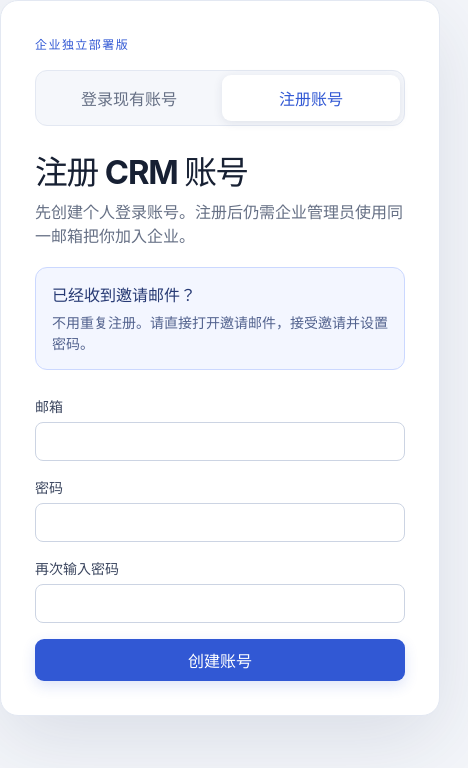
Test case: LoginPage › submits registration and explains email verification plus enterprise invitation
In the field labelled "邮箱": [220, 442] box [35,422,405,461], type "sales@example.com"
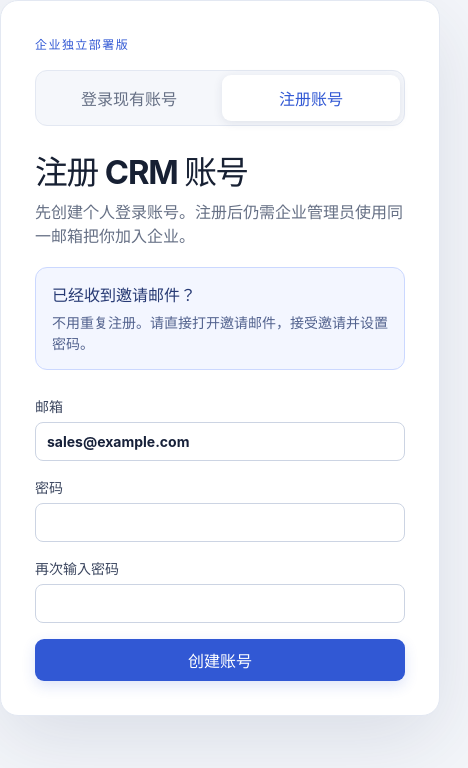
In the password field labelled "密码": [220, 523] box [35,503,405,542], type "secure-pass-1"
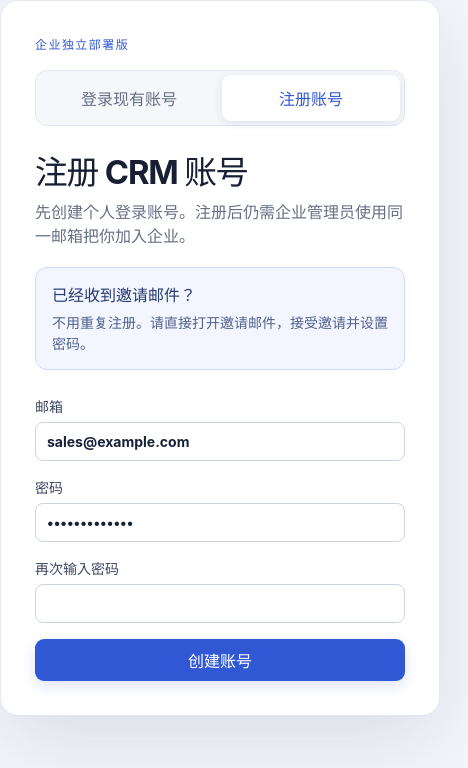
In the password field labelled "再次输入密码": [220, 604] box [35,584,405,623], type "secure-pass-1"
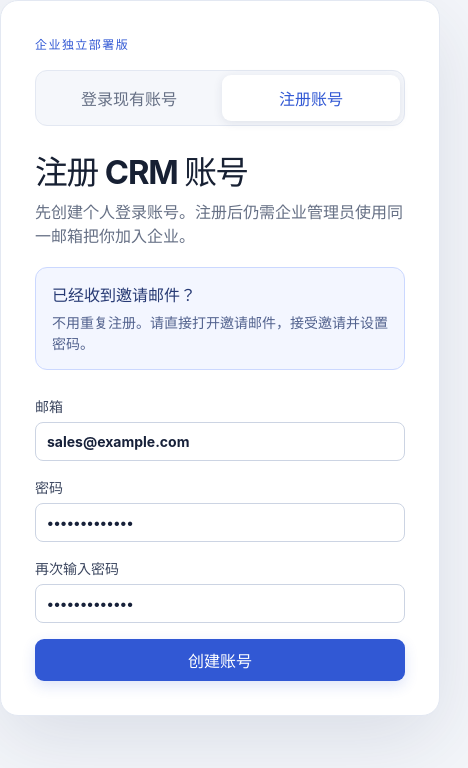
Click the button "创建账号": [220, 660] box [35,639,405,681]
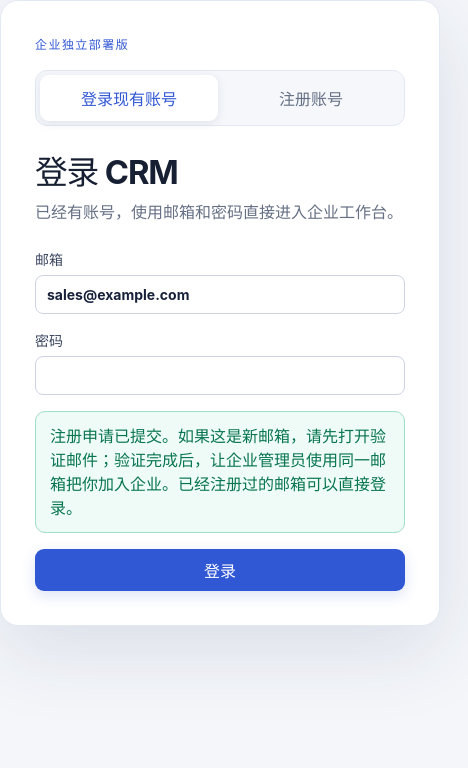
Expected: the message shows "注册申请已提交", [50,426,386,518]
Expected: the heading "登录 CRM" is shown, [35,152,178,192]
